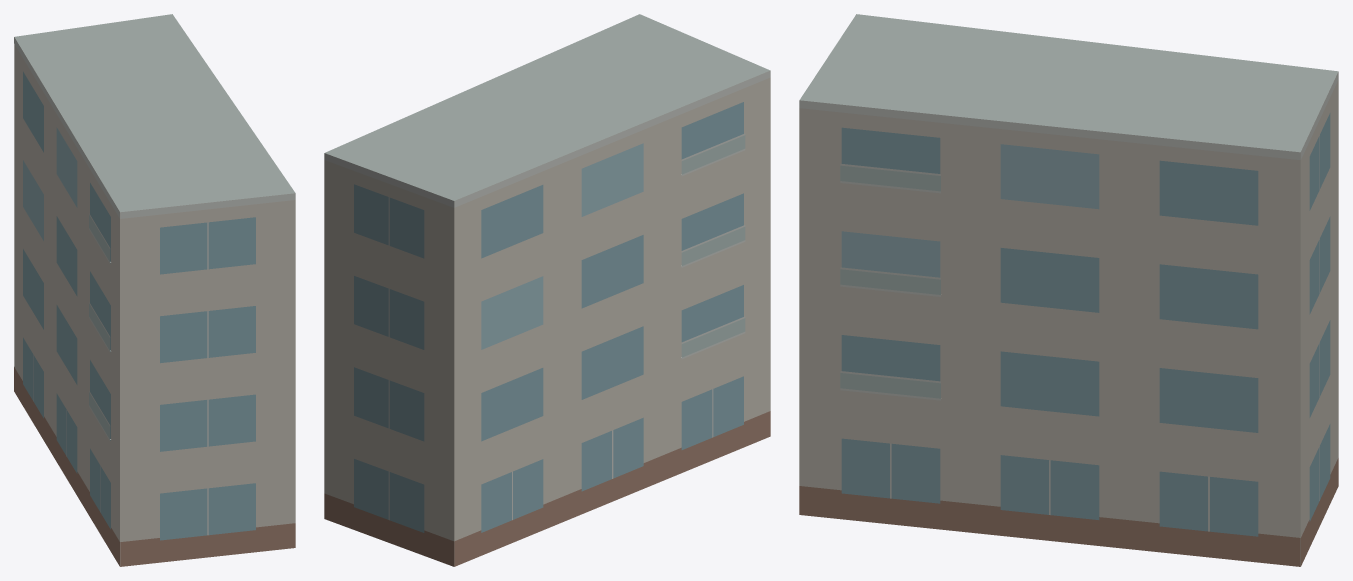
File: survey-upis-33020674.glb
The picture shows the model from 3 angles, left to right: view 1: azimuth 30°, elevation 25°; view 2: azimuth 150°, elevation 25°; view 3: azimuth 270°, elevation 25°; orthographic projection. The views are drawn at different scales.
Parts seen in each view (by area): view 1: survey-upis-33020674.tmp; view 2: survey-upis-33020674.tmp; view 3: survey-upis-33020674.tmp.
Boxes of the visible parts, left/top/right/bottom form: survey-upis-33020674.tmp: left=14, top=14, right=295, bottom=566; survey-upis-33020674.tmp: left=324, top=14, right=770, bottom=566; survey-upis-33020674.tmp: left=799, top=14, right=1338, bottom=566.
Size of the model in its own units: 9.24 by 12.9 by 15.22.
